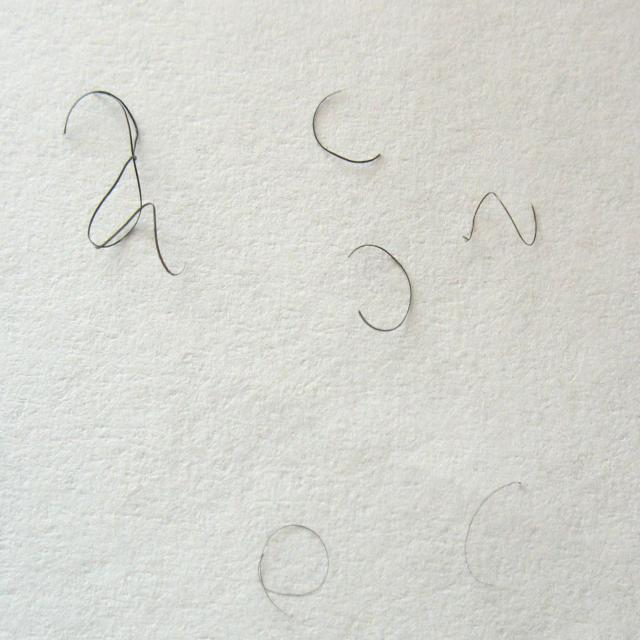hair: (56, 76, 187, 288), (442, 474, 530, 594), (251, 514, 335, 623), (299, 80, 389, 175), (340, 236, 418, 341), (460, 186, 546, 258)
